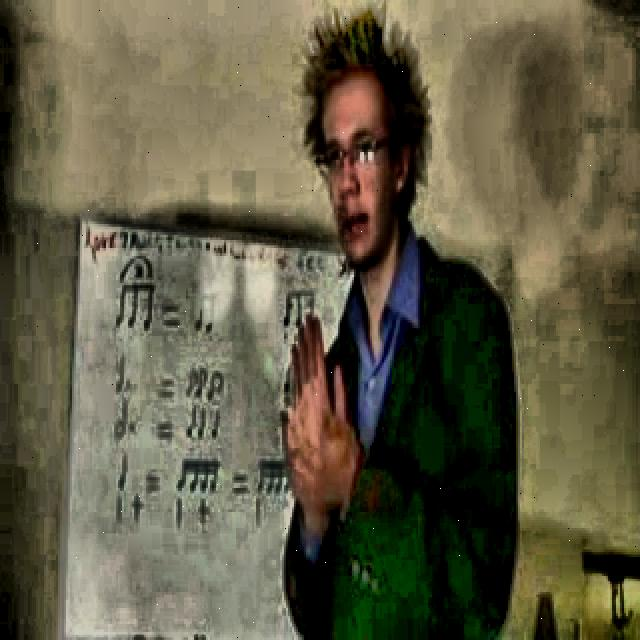F: (258, 3, 518, 637)
